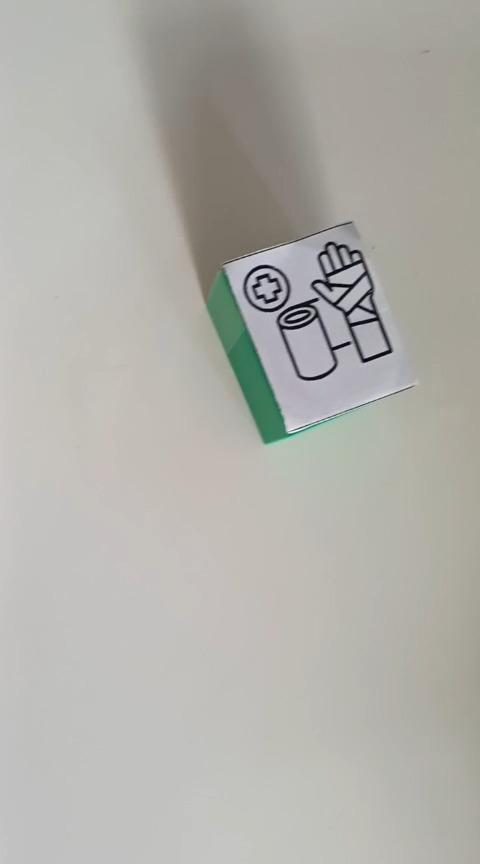Bandages: (205, 218, 418, 444)
